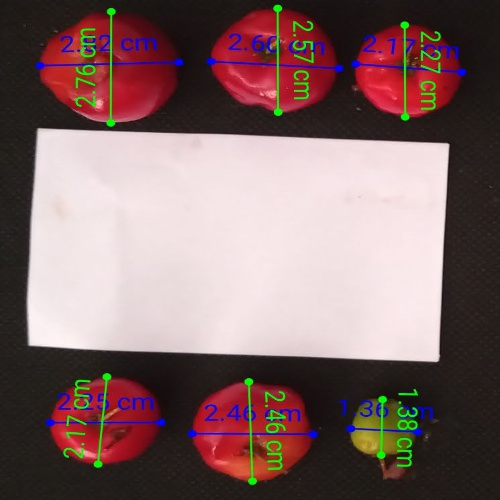acerola: (38, 13, 179, 124), (210, 11, 337, 111), (193, 383, 313, 479), (354, 25, 463, 116), (51, 377, 160, 466), (350, 400, 417, 456)
cartao: (36, 128, 450, 348)
